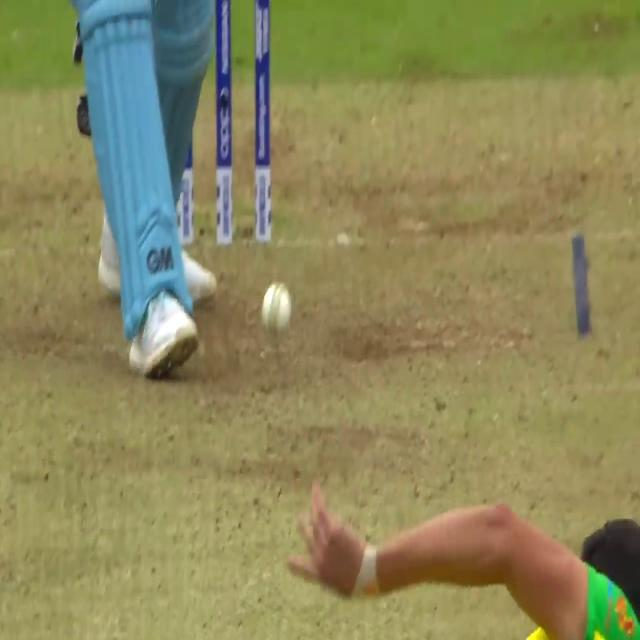ball: (261, 280, 291, 332)
